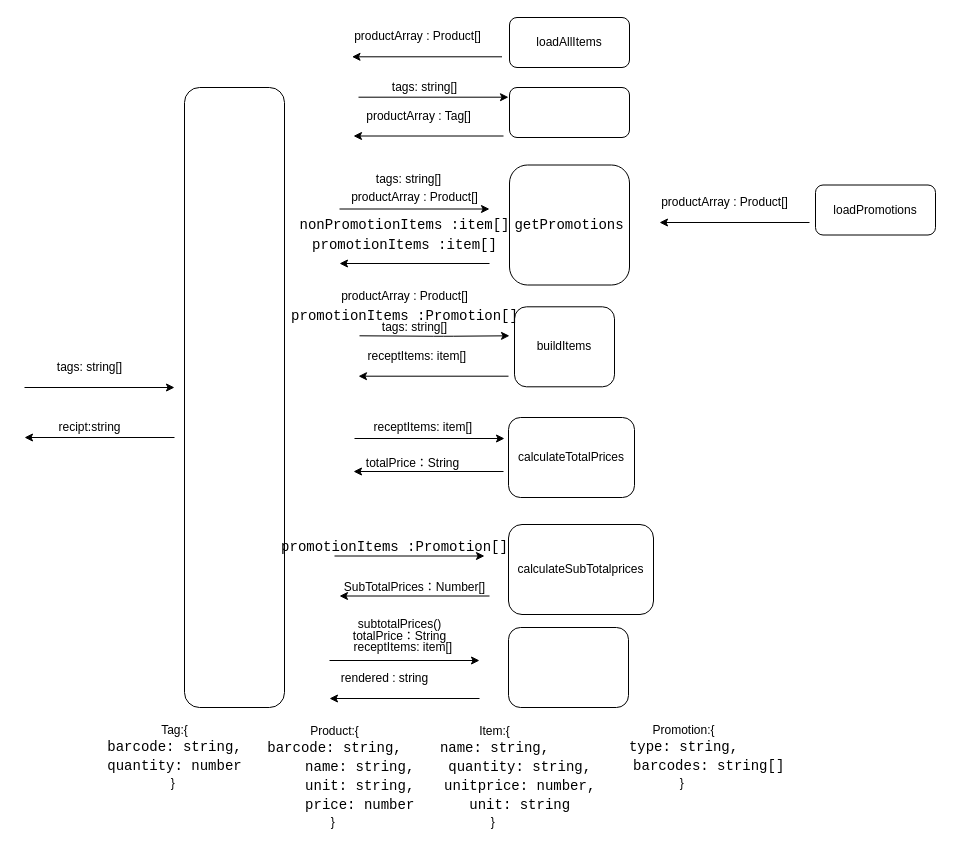
Image size: 953x848. Some labels were removed from this diagram. The shapes that lost their labels are listed below. From the top down, each one's box as (x1, y1, x2, y2) in pixels, then its label:
(508, 86, 630, 138): decodeTags
(184, 86, 284, 708): printRecipt
(508, 626, 628, 708): receptionRender
